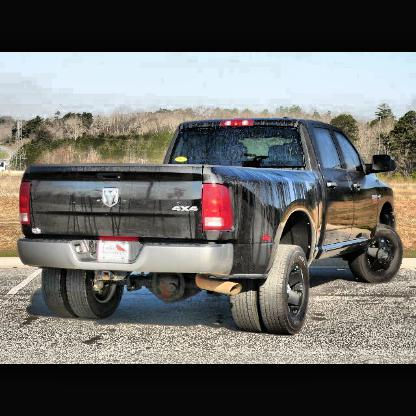Dodge Ram Pickup 3500 Crew Cab 2010: (18, 119, 402, 336)
